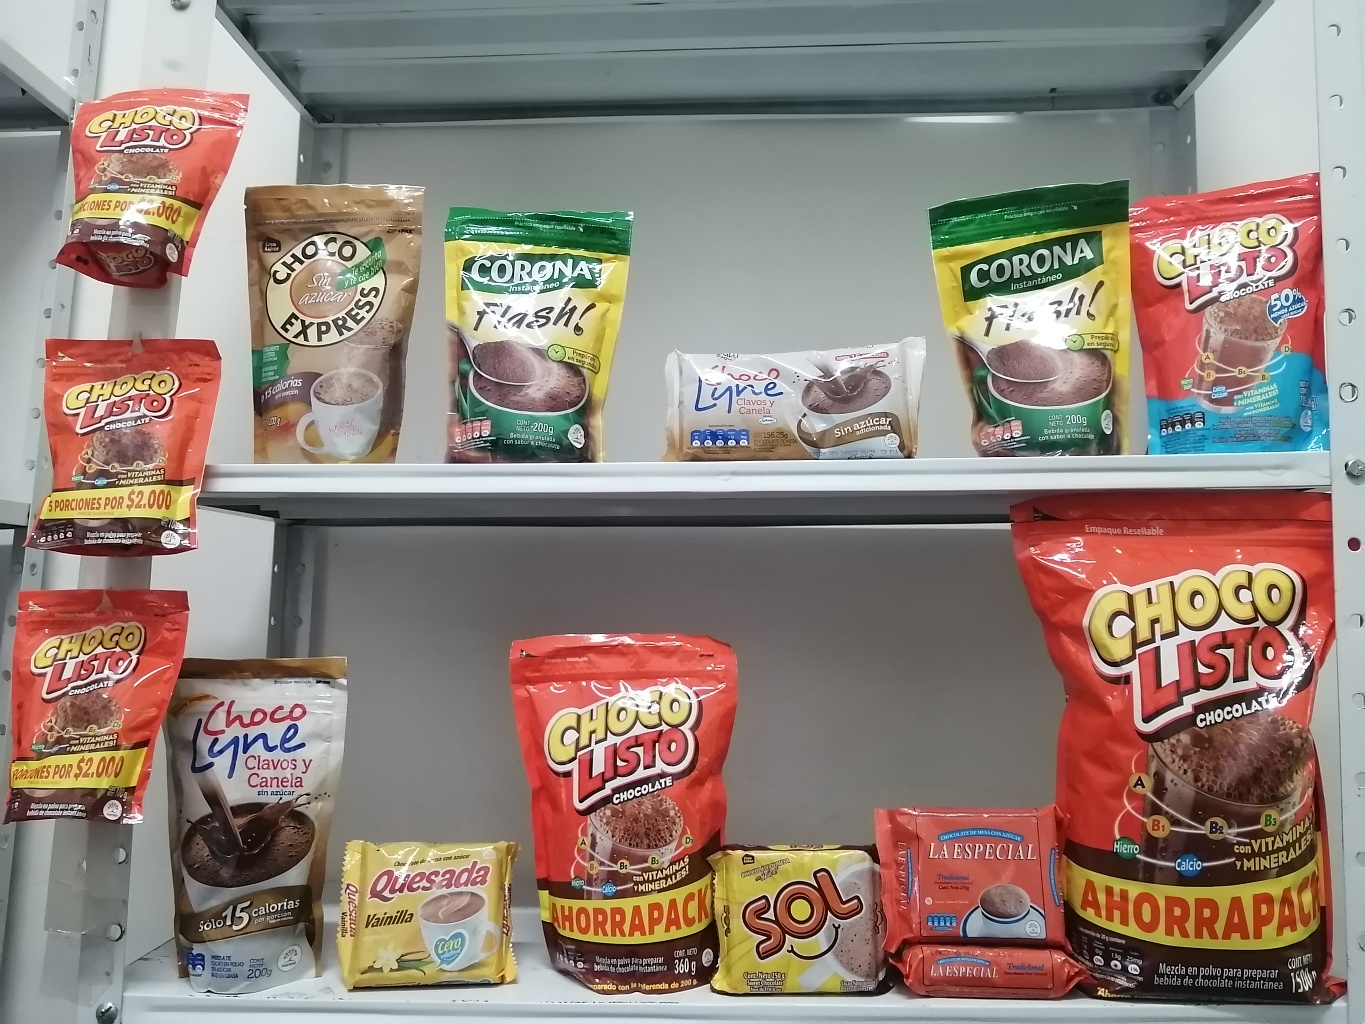COL0170103DYP1,500: (1026, 487, 1345, 999)
COL0170103DYP36000: (501, 623, 740, 1004)
COL0170104DYP20000: (1111, 157, 1328, 450)
